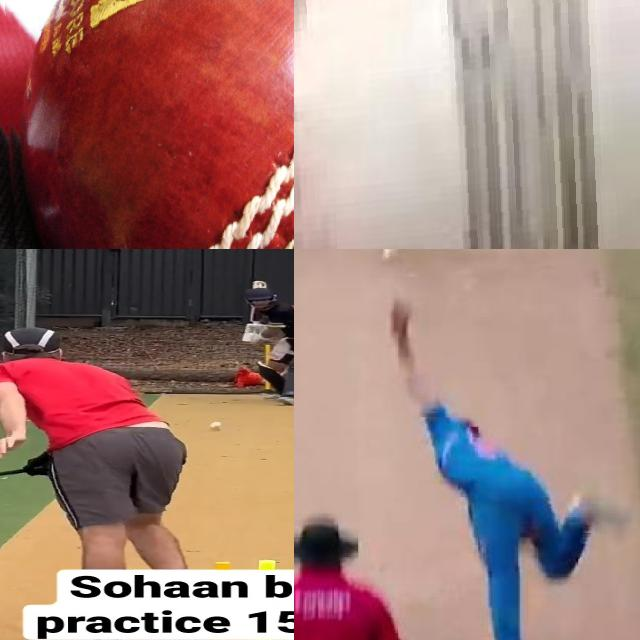Cricket ball: (294, 0, 640, 249), (0, 0, 294, 249), (382, 249, 399, 265), (210, 422, 223, 430)
